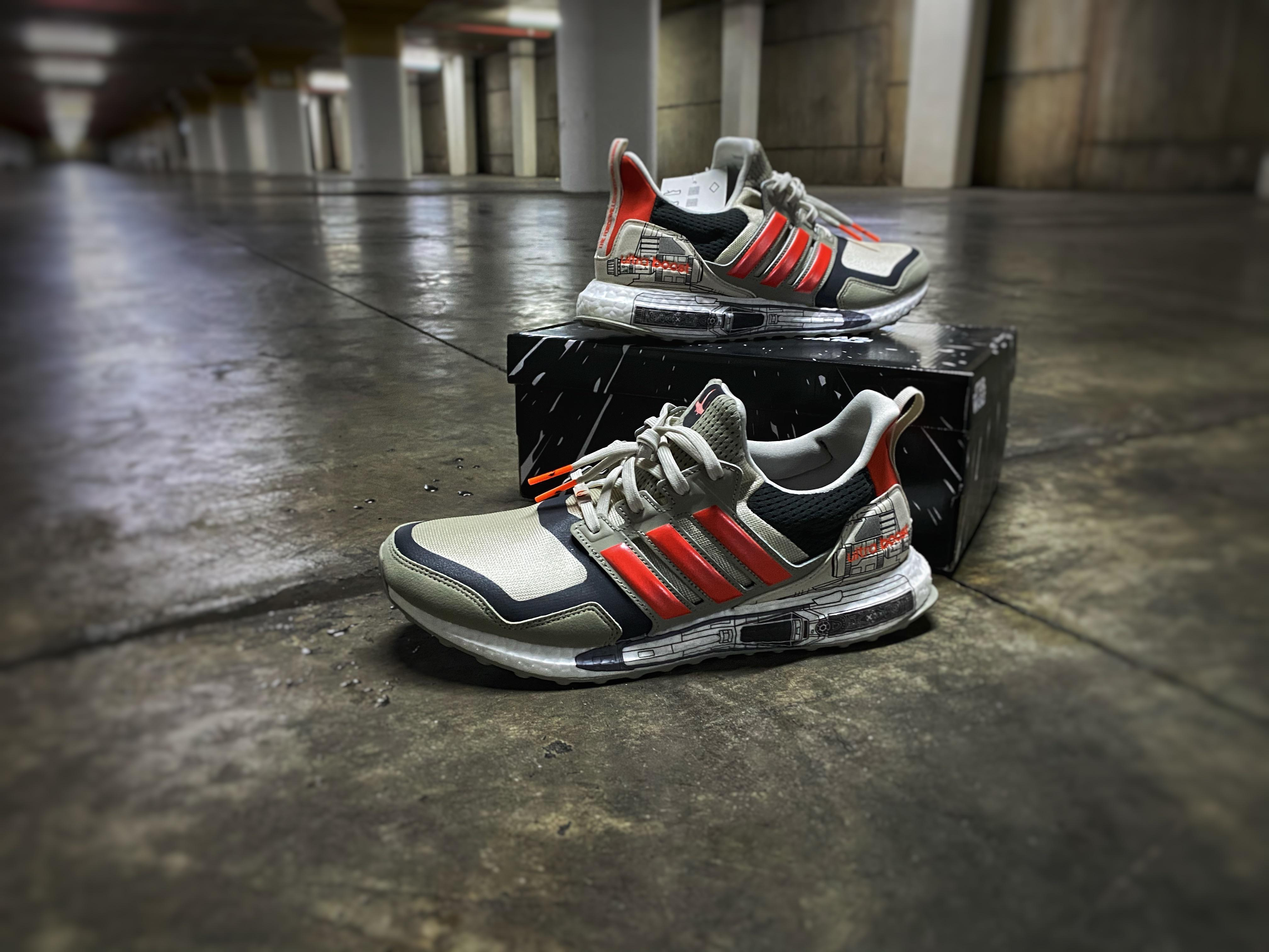sneaker: (367, 360, 944, 713), (559, 105, 952, 343)
